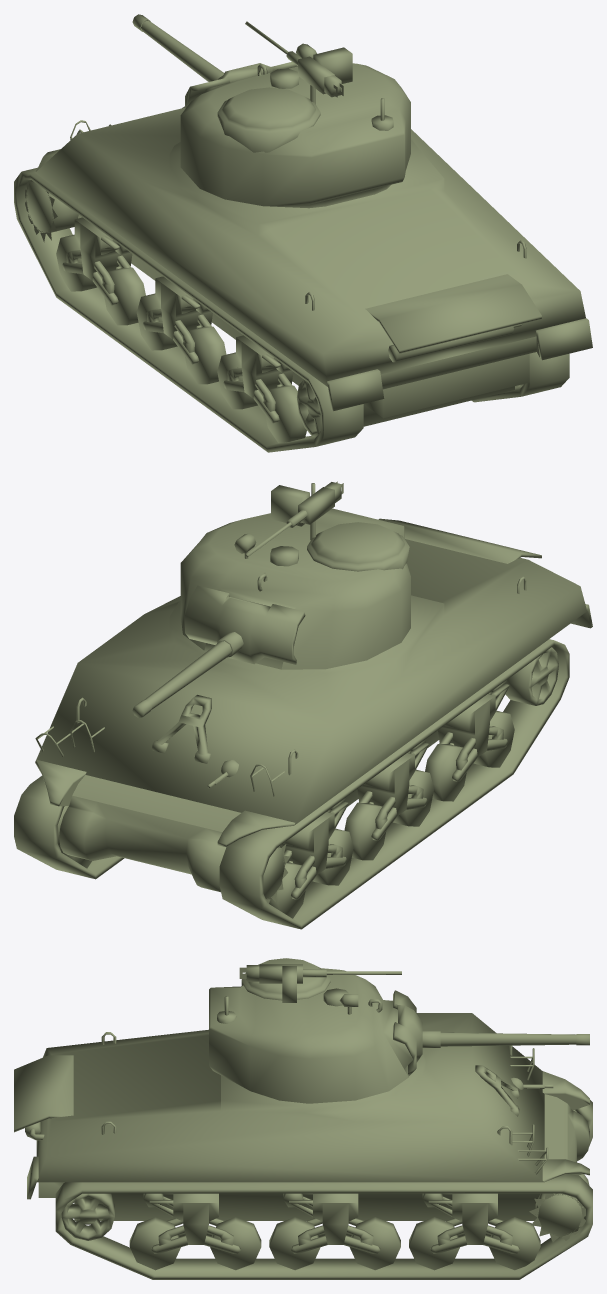
Rendered from us_m4_sherman.glb.
3 renders of one model, top to bottom at view 1: azimuth 30°, elevation 25°; view 2: azimuth 150°, elevation 25°; view 3: azimuth 270°, elevation 25°, orthographic. The views are drawn at different scales.
Parts seen in each view (by area): view 1: USM4A3Sherman; view 2: USM4A3Sherman; view 3: USM4A3Sherman.
Boxes of the visible parts, left/top/right/bottom form: USM4A3Sherman: left=14, top=14, right=592, bottom=452; USM4A3Sherman: left=14, top=481, right=592, bottom=929; USM4A3Sherman: left=14, top=958, right=592, bottom=1279.
Bounding box in the file's own units: 2.66 × 3 × 5.94.
